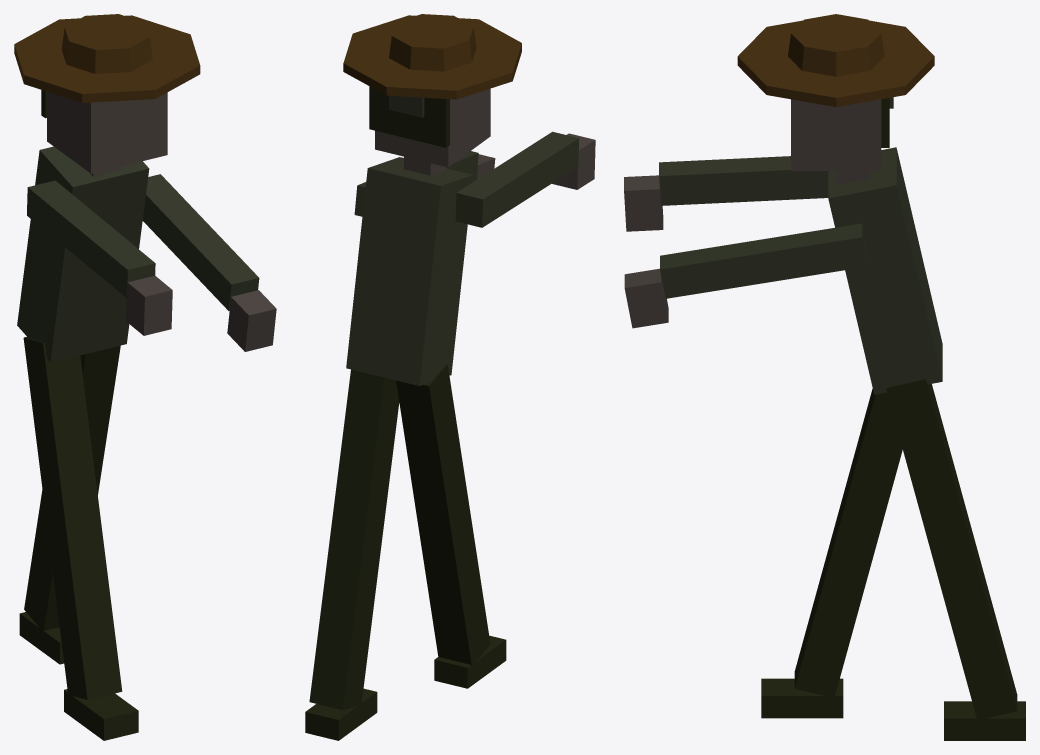
File: SM_ZombiFino_v15_Sombrero_LOD0.fbx
3 renders of one model, left to right at view 1: azimuth 30°, elevation 25°; view 2: azimuth 150°, elevation 25°; view 3: azimuth 270°, elevation 25°, orthographic. The views are drawn at different scales.
Visible parts, largest first — view 1: SM_zombi_fino_v15_LOD0; view 2: SM_zombi_fino_v15_LOD0; view 3: SM_zombi_fino_v15_LOD0.
Boxes of the visible parts, x1,y1,x2,y2 form: SM_zombi_fino_v15_LOD0: (14, 14, 276, 740); SM_zombi_fino_v15_LOD0: (305, 14, 595, 740); SM_zombi_fino_v15_LOD0: (624, 14, 1025, 740).
Size of the model in its own units: 0.48 by 1.85 by 0.9796.
